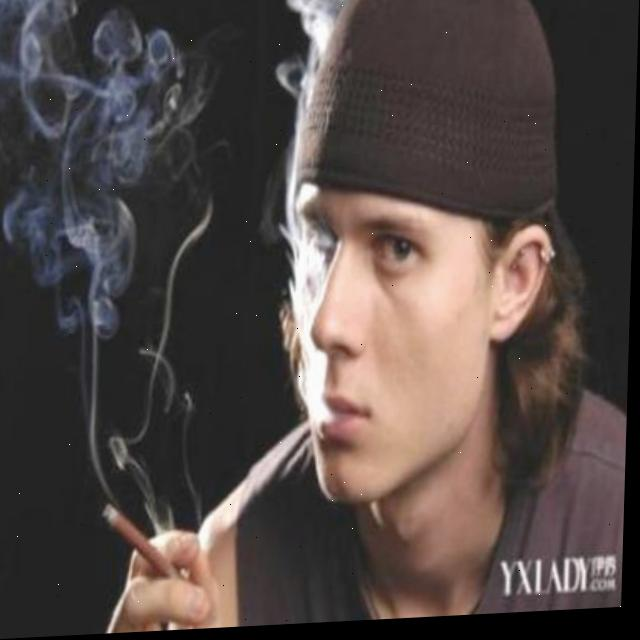cigarette: (103, 502, 180, 581)
